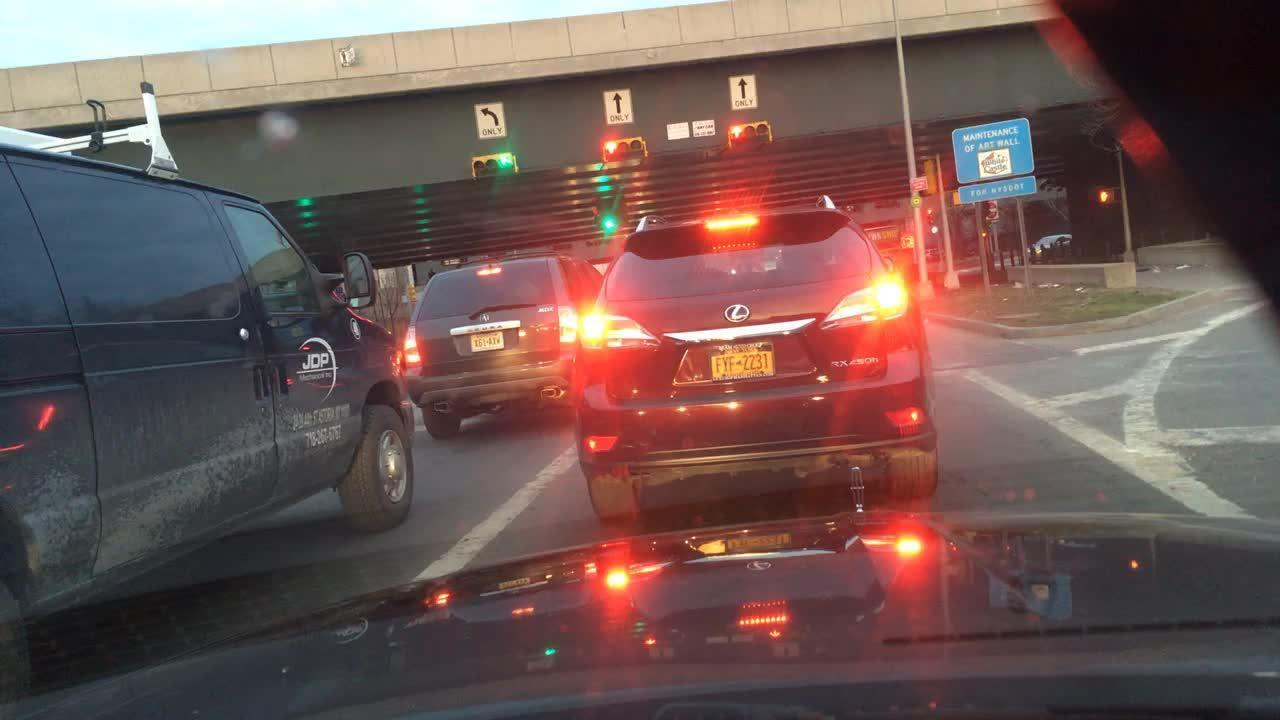acura: (476, 312, 492, 325)
lexus: (717, 298, 757, 326)
